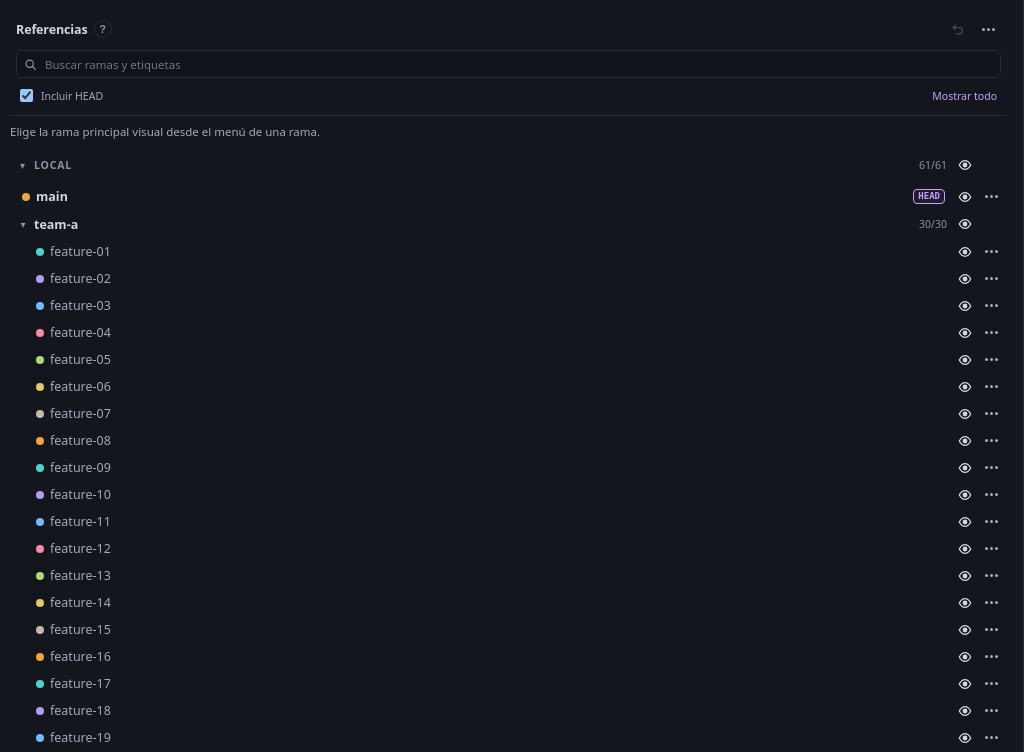
Scenario: renders large reference sets efficiently with correct counts and sorting
The width and height of the screenshot is (1024, 752).
# Filter with search: only bugfix-05 matches
In the search field: (508, 64) 16,50 -> 1001,78, type "bugfix-05"
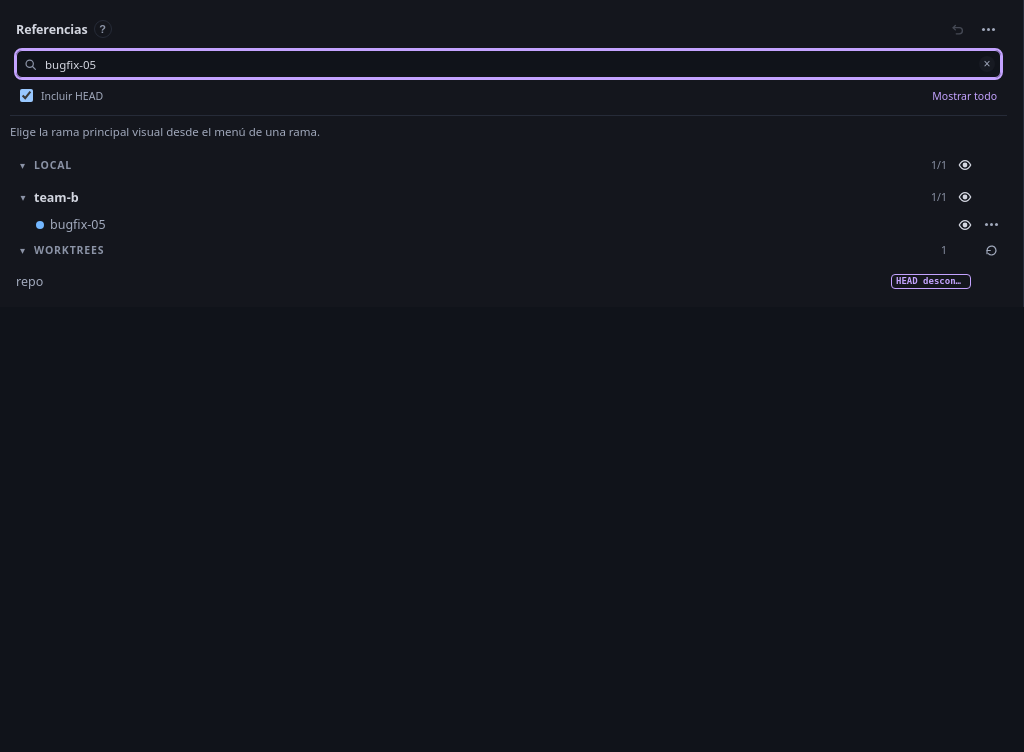
Expected: the button with aria-label "team-b/bugfix-05" reads "bugfix-05", 30,211 -> 951,238
Expected: the button "team-a" is gone
